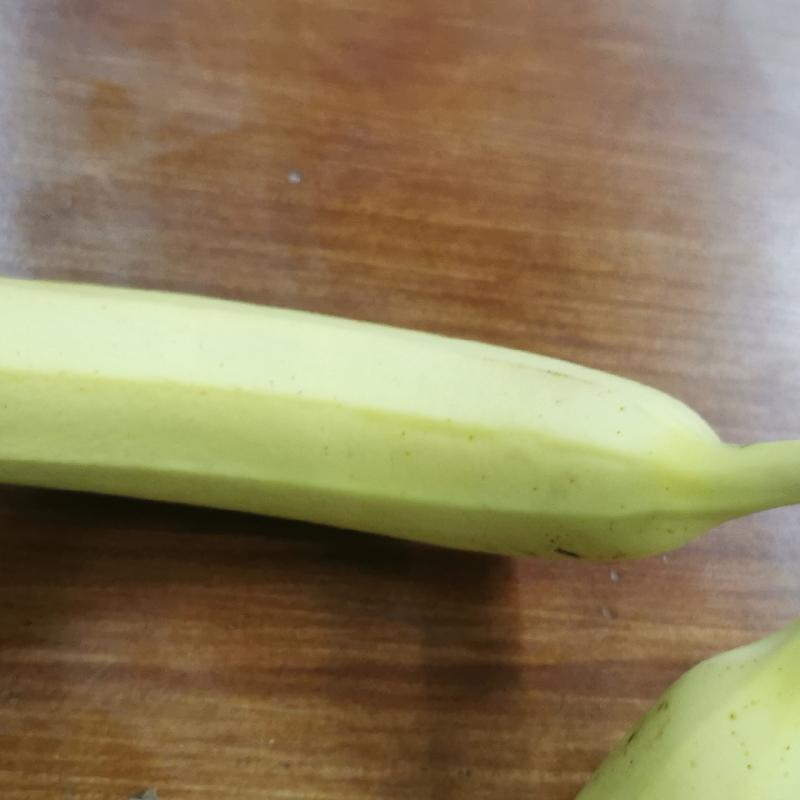bananas: (0, 272, 799, 566)
